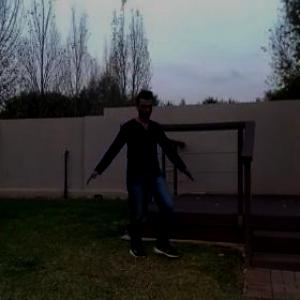land: (88, 93, 195, 278)
